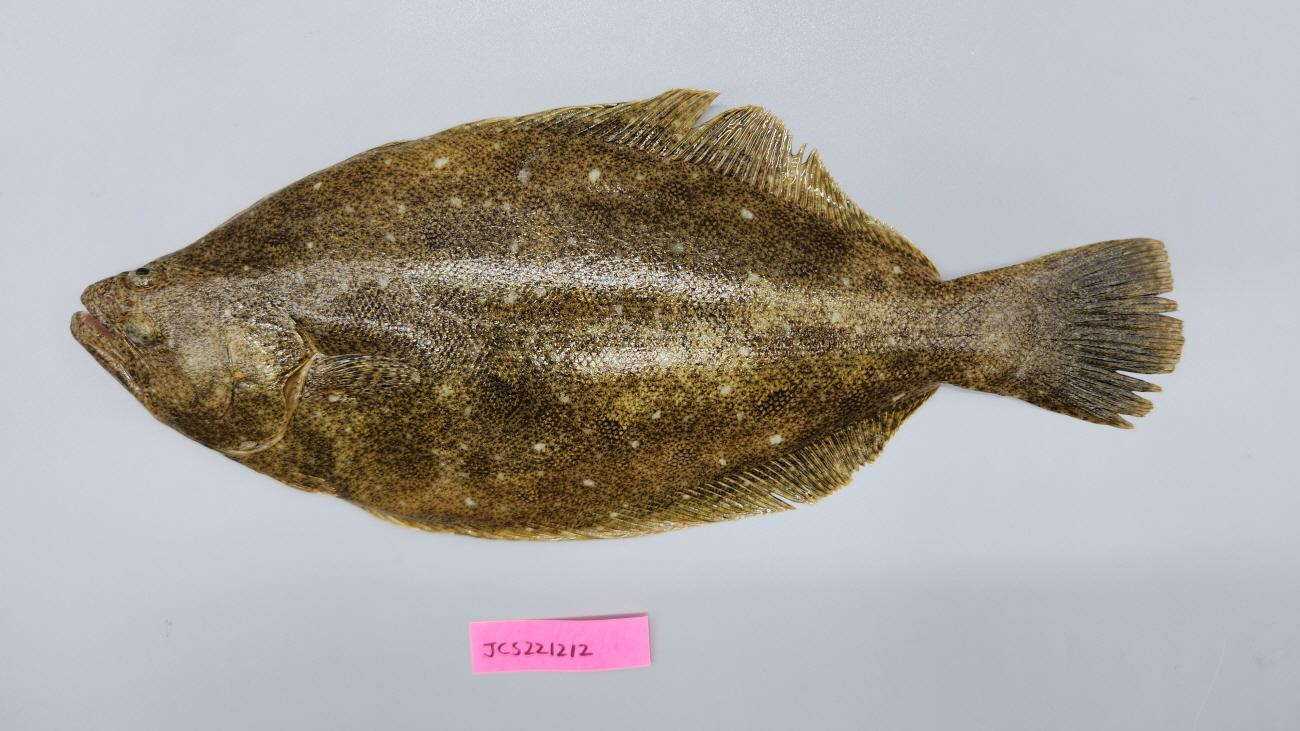POOUN: (70, 87, 1187, 545)
